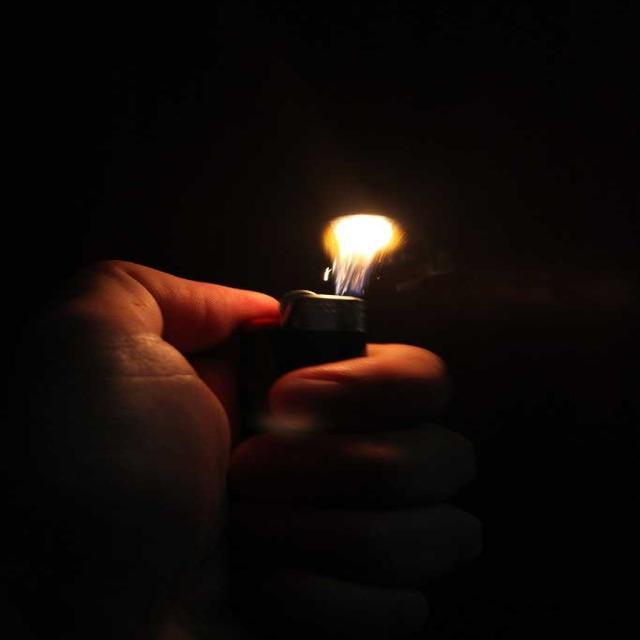Fire: (336, 221, 394, 269)
